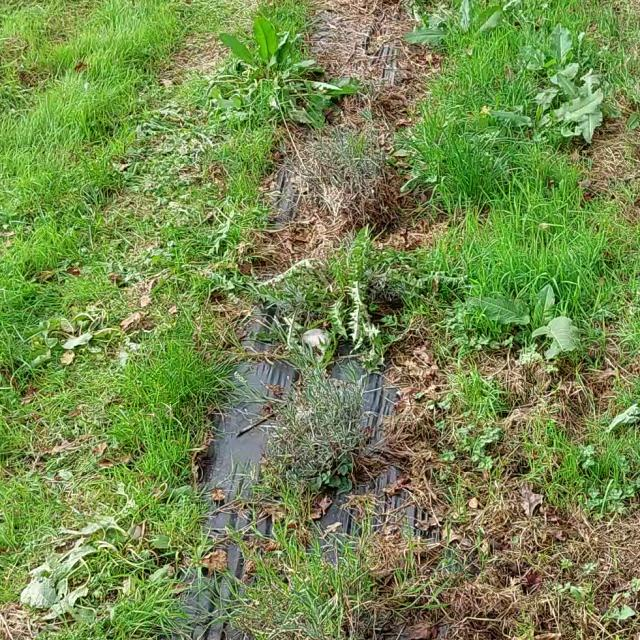organic waste: (10, 474, 202, 627), (208, 9, 361, 144), (469, 273, 590, 370), (29, 288, 144, 374), (396, 0, 520, 70), (506, 37, 604, 100), (533, 73, 622, 141), (601, 387, 640, 448)
